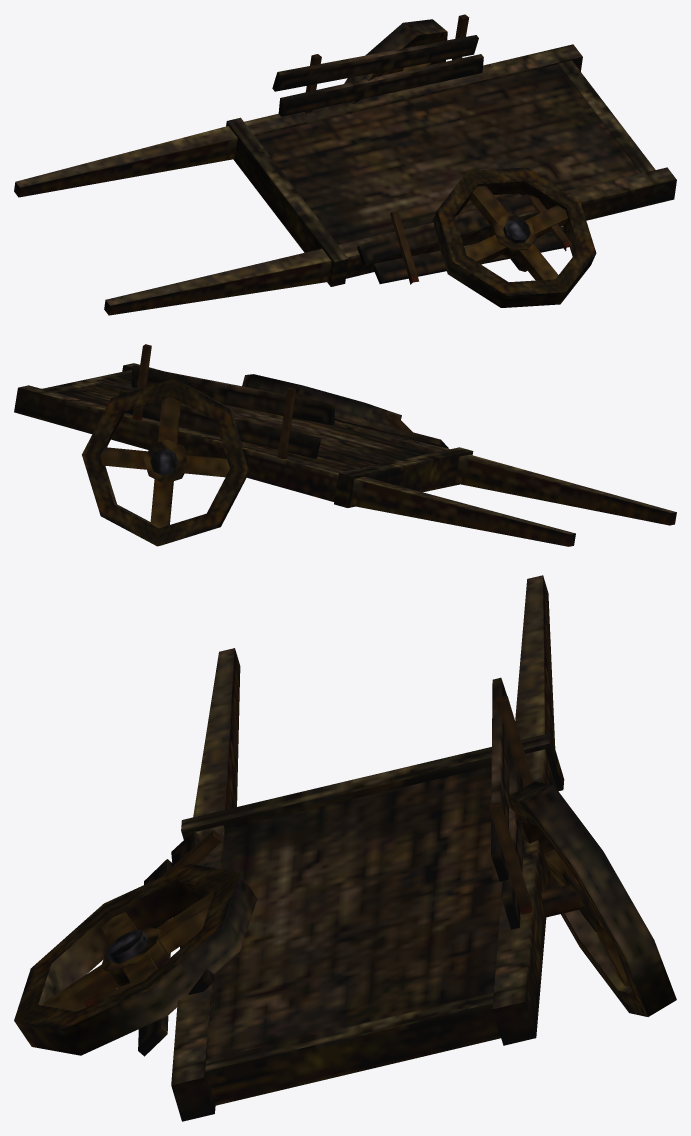
Rendered from b_general_obj_21_1_01.glb.
3 views of the same model, one above another, from view 1: azimuth 30°, elevation 25°; view 2: azimuth 150°, elevation 25°; view 3: azimuth 270°, elevation 25° (orthographic). The views are drawn at different scales.
Parts seen in each view (by area): view 1: Sphere02; view 2: Sphere02; view 3: Sphere02.
Part boxes in pixels (x1,y1,x2,y2): Sphere02: (14,14,676,315); Sphere02: (14,344,676,546); Sphere02: (14,575,676,1121).
Size of the model in its own units: 4.87 by 1.44 by 3.09.
Materials: 1 (1 with a texture image).
